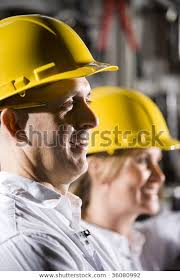Person_wearing_helmet: (0, 12, 111, 121)
